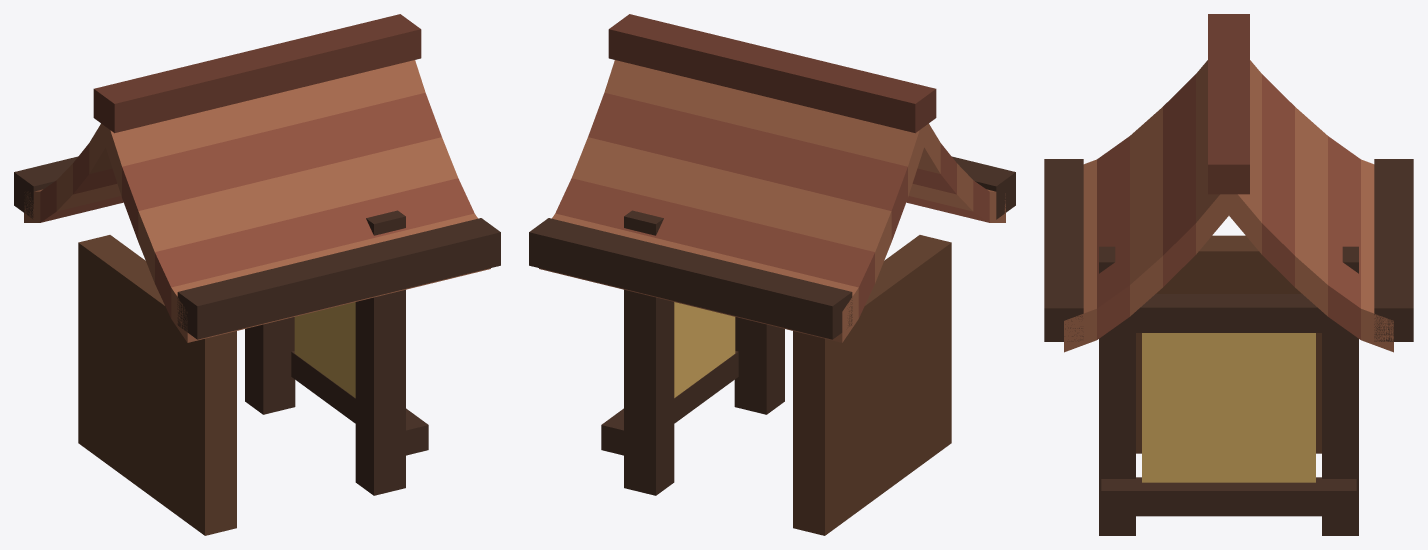
File: Dormer__Gabled.fbx
3 renders of one model, left to right at view 1: azimuth 30°, elevation 25°; view 2: azimuth 150°, elevation 25°; view 3: azimuth 270°, elevation 25°, orthographic.
Visible parts, largest first — view 1: Dormer__Gabled; view 2: Dormer__Gabled; view 3: Dormer__Gabled.
Part boxes in pixels (box(x1,y1,x2,y2)): Dormer__Gabled: box(14, 14, 500, 535); Dormer__Gabled: box(529, 14, 1015, 535); Dormer__Gabled: box(1044, 14, 1413, 535).
Size of the model in its own units: 154 by 193 by 159.
1 material, 1 textured.
